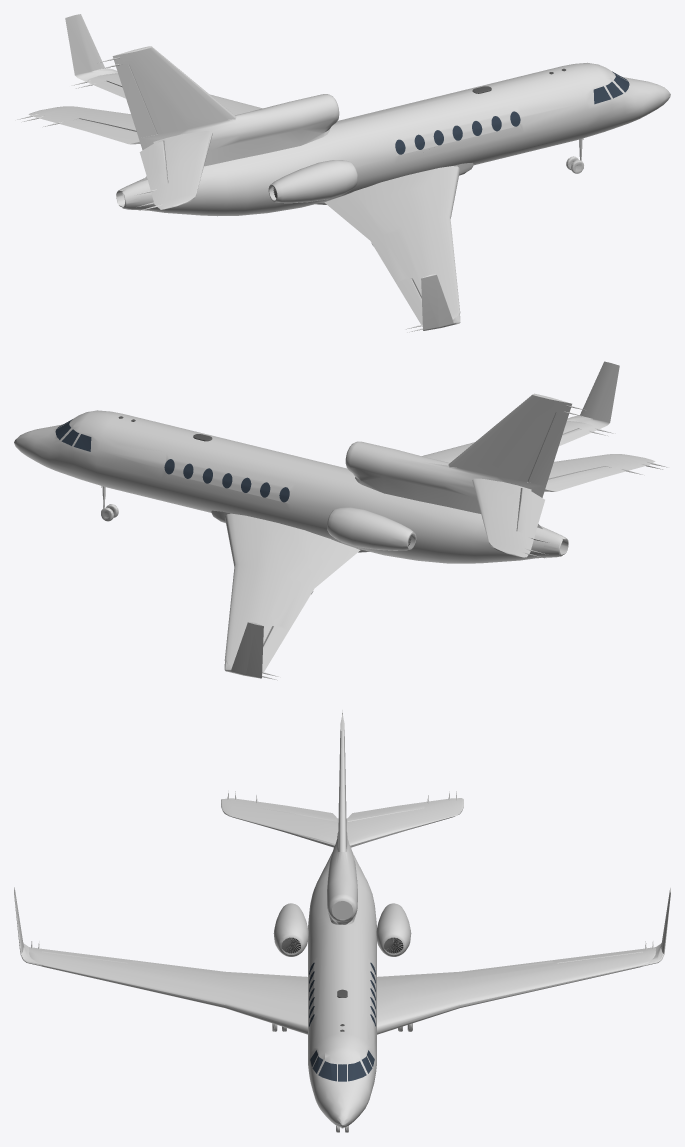
3 views of the same model, one above another, from view 1: azimuth 30°, elevation 25°; view 2: azimuth 150°, elevation 25°; view 3: azimuth 270°, elevation 25° (orthographic). The views are drawn at different scales.
Parts seen in each view (by area): view 1: body, glass; view 2: body, glass; view 3: body, glass.
Boxes of the visible parts, box(x1,y1,x2,y2) form: body: box(15, 14, 670, 332); glass: box(395, 71, 629, 154); body: box(14, 361, 668, 680); glass: box(55, 419, 289, 502); body: box(14, 710, 670, 1132); glass: box(309, 962, 375, 1081).
Bounding box in the file's own units: 2.12 × 0.7792 × 2.2.
